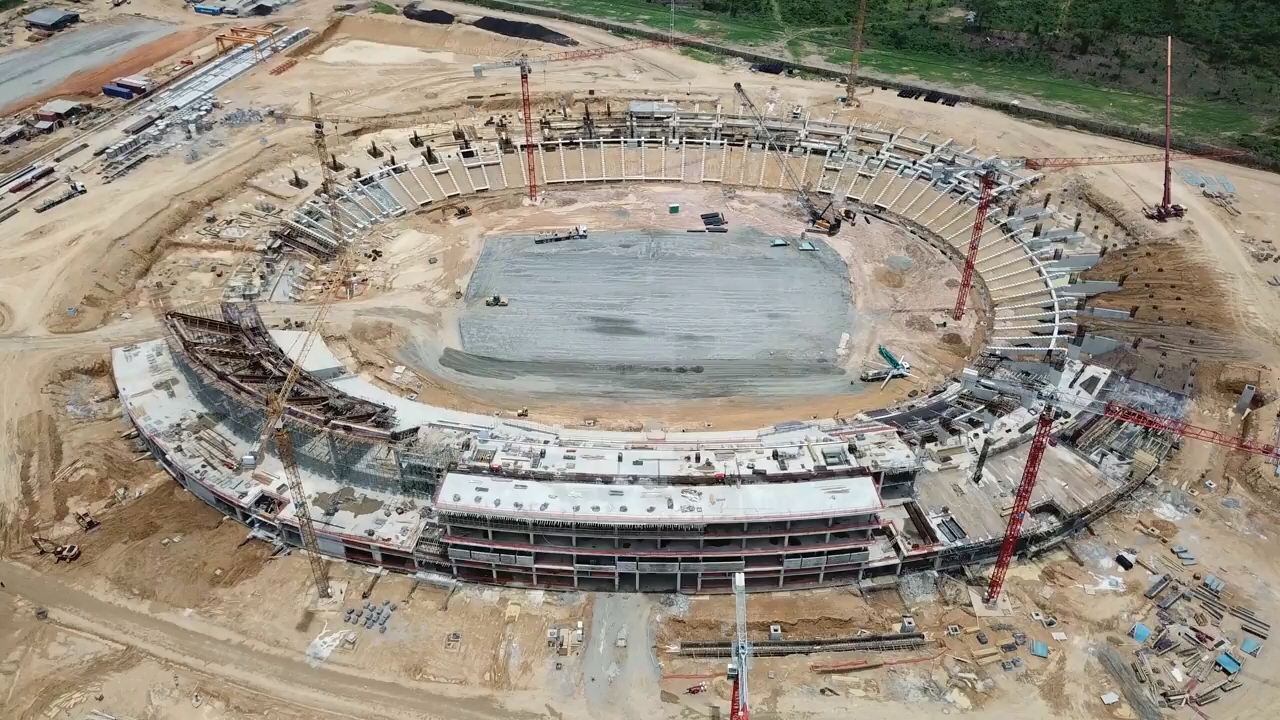ismakinesi: (28, 527, 82, 566)
kamyon: (533, 221, 593, 247)
